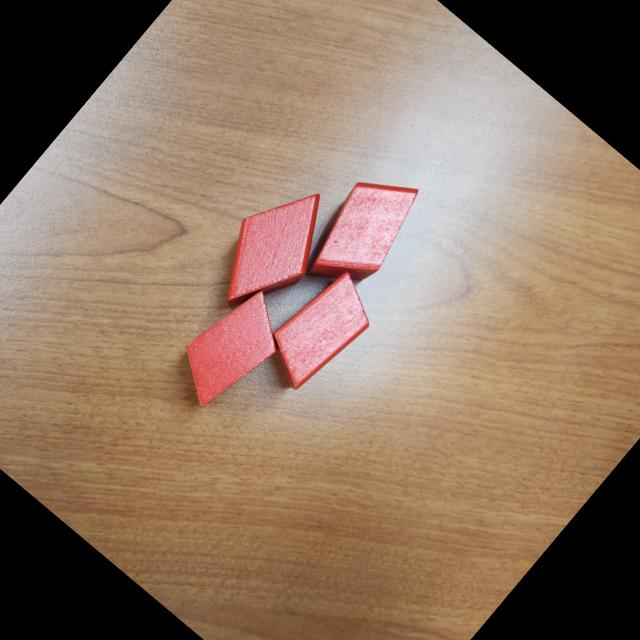red: (188, 164, 351, 334), (291, 154, 436, 307), (157, 272, 301, 423), (250, 258, 388, 403)
